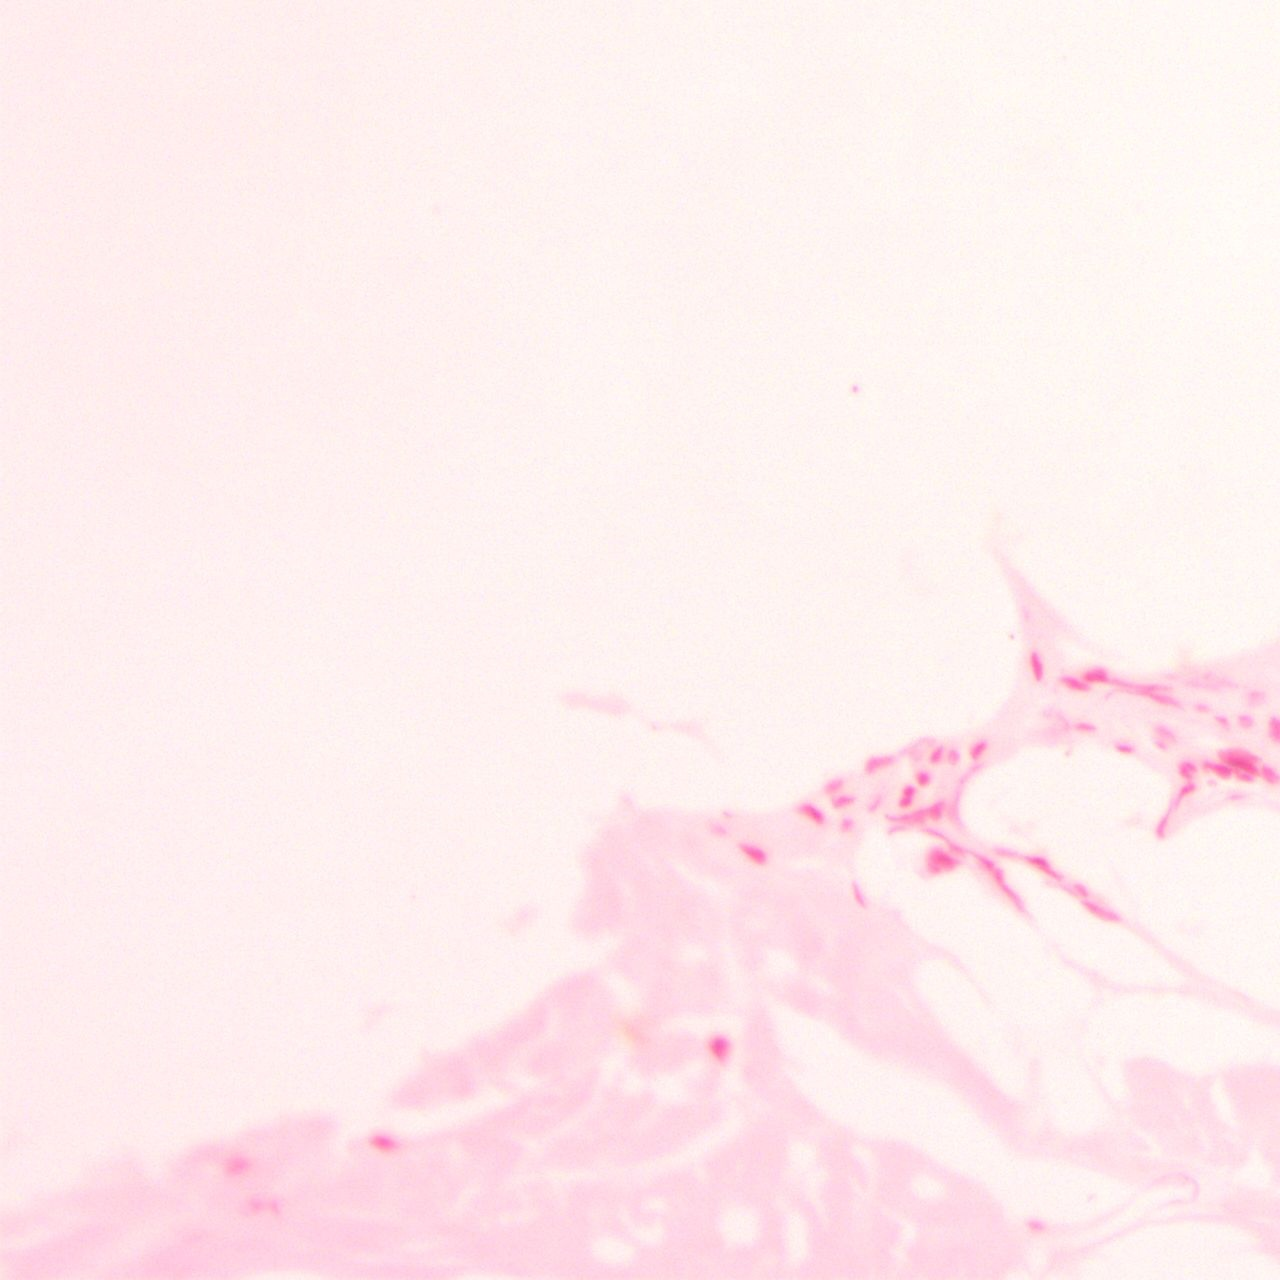dust: (1008, 634, 1016, 641)
nucleus-AC: (1081, 657, 1183, 709), (990, 833, 1066, 886), (1150, 776, 1197, 844), (987, 867, 1035, 917), (1211, 738, 1262, 778), (916, 840, 962, 884), (1076, 896, 1127, 931), (855, 742, 899, 779), (733, 835, 773, 870), (966, 842, 999, 875), (958, 755, 991, 788), (878, 806, 927, 827), (794, 797, 826, 828), (1060, 670, 1093, 699), (1199, 755, 1233, 781), (1150, 723, 1179, 752), (826, 789, 859, 814), (1026, 649, 1046, 685), (847, 881, 869, 912), (368, 1131, 399, 1153), (709, 1034, 731, 1062), (926, 798, 949, 824), (822, 774, 848, 797), (896, 784, 918, 808), (967, 738, 990, 760), (1214, 713, 1234, 736), (1109, 741, 1138, 755), (1070, 721, 1101, 734), (927, 745, 947, 765), (1178, 760, 1198, 780), (1024, 1218, 1046, 1234), (838, 815, 857, 832), (1189, 702, 1214, 714), (1236, 712, 1252, 730), (915, 771, 928, 786), (1233, 773, 1252, 783), (948, 750, 961, 764)
